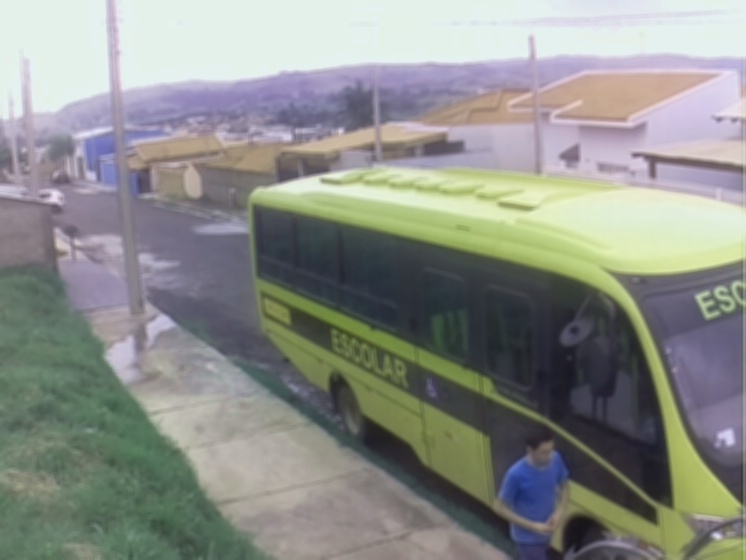person: (493, 430, 573, 560)
